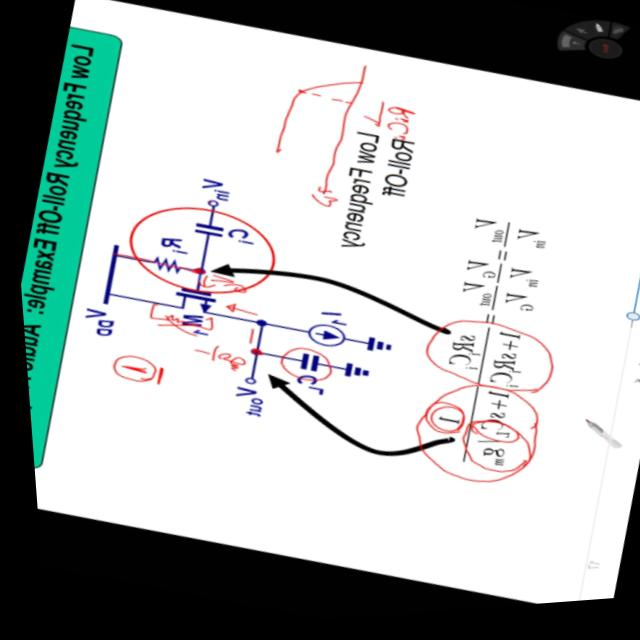panseo: (192, 19, 471, 257), (52, 231, 285, 441)
